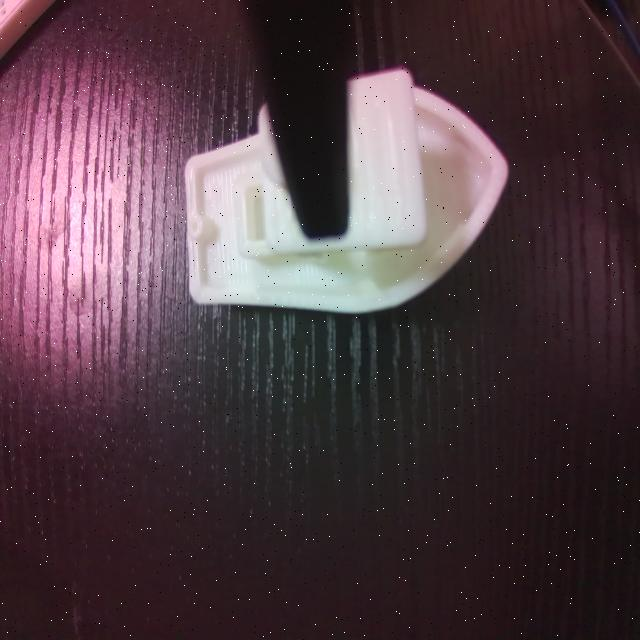ship: (185, 69, 510, 315)
